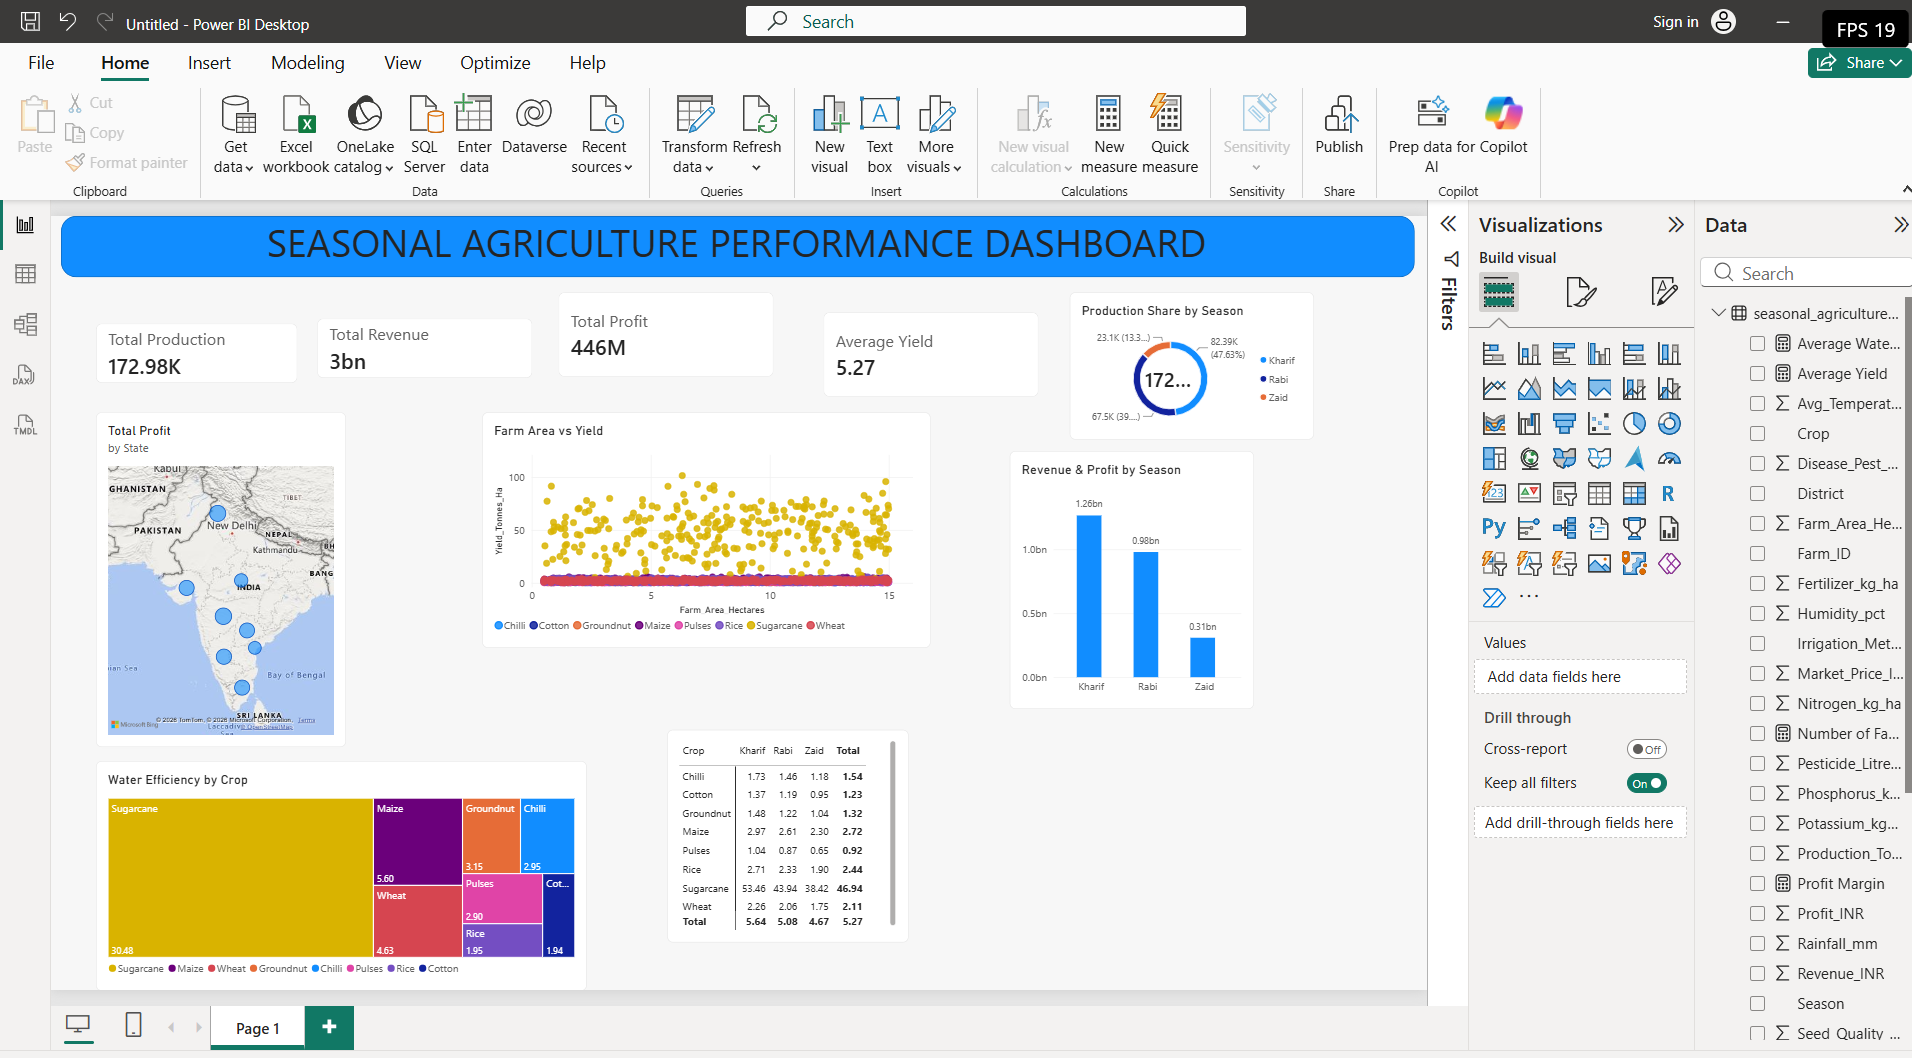

This screenshot's page, from the dashboard's own definition file:
{"tool":"powerbi","page":{"name":"Page 1","canvas":[1920,1080],"ordinal":0},"visuals":[{"type":"cardVisual","title":"Total Production","fields":{"Data":["seasonal_agriculture_performance_dataset.Total Production"]},"box":[15.7,99.4,415.1,83.7],"z":0},{"type":"cardVisual","fields":{"Data":["seasonal_agriculture_performance_dataset.Total Revenue"]},"box":[450,99.4,470.9,83.7],"z":1000},{"type":"cardVisual","fields":{"Data":["seasonal_agriculture_performance_dataset.Total Profit"]},"box":[934.9,99.4,504.1,83.7],"z":2000},{"type":"cardVisual","fields":{"Data":["seasonal_agriculture_performance_dataset.Average Yield"]},"box":[1451.2,99.4,451.7,83.7],"z":3000},{"type":"shape","box":[14,0,1889,85.5],"z":4000},{"type":"lineClusteredColumnComboChart","title":"Revenue & Profit by Season","fields":{"Y":["seasonal_agriculture_performance_dataset.Total Revenue"],"Category":["seasonal_agriculture_performance_dataset.Season"],"Y2":["seasonal_agriculture_performance_dataset.Total Profit"]},"box":[368,287.8,807.6,320.9],"z":5000},{"type":"textbox","box":[204.1,0,1519.2,85.5],"z":6000},{"type":"donutChart","title":"Production Share by Season","fields":{"Category":["seasonal_agriculture_performance_dataset.Season"],"Y":["seasonal_agriculture_performance_dataset.Total Production"]},"box":[1187.8,287.8,715.1,320.9],"z":7000},{"type":"scatterChart","title":"Farm Area vs Yield","fields":{"X":["seasonal_agriculture_performance_dataset.Farm_Area_Hectares"],"Y":["seasonal_agriculture_performance_dataset.Yield_Tonnes_Ha"],"Series":["seasonal_agriculture_performance_dataset.Crop"]},"box":[1187.8,622.7,715.1,453.5],"z":8000},{"type":"treemap","title":"Water Efficiency by Crop","fields":{"Group":["seasonal_agriculture_performance_dataset.Crop"],"Values":["seasonal_agriculture_performance_dataset.Average Water Efficiency"]},"box":[368,626.2,807.6,450],"z":9000},{"type":"map","title":"Profit by State","fields":{"Category":["seasonal_agriculture_performance_dataset.State"],"Size":["seasonal_agriculture_performance_dataset.Total Profit"]},"box":[14,284.3,348.8,444.8],"z":10000},{"type":"pivotTable","title":"Crop Yield by Season  ","fields":{"Rows":["seasonal_agriculture_performance_dataset.Crop"],"Columns":["seasonal_agriculture_performance_dataset.Season"],"Values":["seasonal_agriculture_performance_dataset.Average Yield"]},"box":[14,736,348.8,340.1],"z":11000},{"type":"advancedSlicerVisual","fields":{"Values":["seasonal_agriculture_performance_dataset.State"]},"box":[15.7,191.9,415.1,83.7],"z":12000},{"type":"advancedSlicerVisual","fields":{"Values":["seasonal_agriculture_performance_dataset.District"]},"box":[934.9,191.9,504.1,83.7],"z":13000},{"type":"advancedSlicerVisual","fields":{"Values":["seasonal_agriculture_performance_dataset.Crop"]},"box":[450,191.9,470.9,83.7],"z":14000},{"type":"advancedSlicerVisual","fields":{"Values":["seasonal_agriculture_performance_dataset.Season"]},"box":[1451.2,193.6,451.7,83.7],"z":15000}]}

Visuals, with their boxes on the page's 1920x1080 design canvas (x1, y1, x2, y2). These are canvas units, not pixel positions in the 1912x1058 screenshot, which may show the page scaled, cropped or inside an application window:
"Total Production" cardVisual: [x1=16, y1=99, x2=431, y2=183]
cardVisual - seasonal_agriculture_performance_dataset.Total Revenue: [x1=450, y1=99, x2=921, y2=183]
cardVisual - seasonal_agriculture_performance_dataset.Total Profit: [x1=935, y1=99, x2=1439, y2=183]
cardVisual - seasonal_agriculture_performance_dataset.Average Yield: [x1=1451, y1=99, x2=1903, y2=183]
shape: [x1=14, y1=0, x2=1903, y2=86]
"Revenue & Profit by Season" lineClusteredColumnComboChart: [x1=368, y1=288, x2=1176, y2=609]
textbox: [x1=204, y1=0, x2=1723, y2=86]
"Production Share by Season" donutChart: [x1=1188, y1=288, x2=1903, y2=609]
"Farm Area vs Yield" scatterChart: [x1=1188, y1=623, x2=1903, y2=1076]
"Water Efficiency by Crop" treemap: [x1=368, y1=626, x2=1176, y2=1076]
"Profit by State" map: [x1=14, y1=284, x2=363, y2=729]
"Crop Yield by Season  " pivotTable: [x1=14, y1=736, x2=363, y2=1076]
advancedSlicerVisual - seasonal_agriculture_performance_dataset.State: [x1=16, y1=192, x2=431, y2=276]
advancedSlicerVisual - seasonal_agriculture_performance_dataset.District: [x1=935, y1=192, x2=1439, y2=276]
advancedSlicerVisual - seasonal_agriculture_performance_dataset.Crop: [x1=450, y1=192, x2=921, y2=276]
advancedSlicerVisual - seasonal_agriculture_performance_dataset.Season: [x1=1451, y1=194, x2=1903, y2=277]
